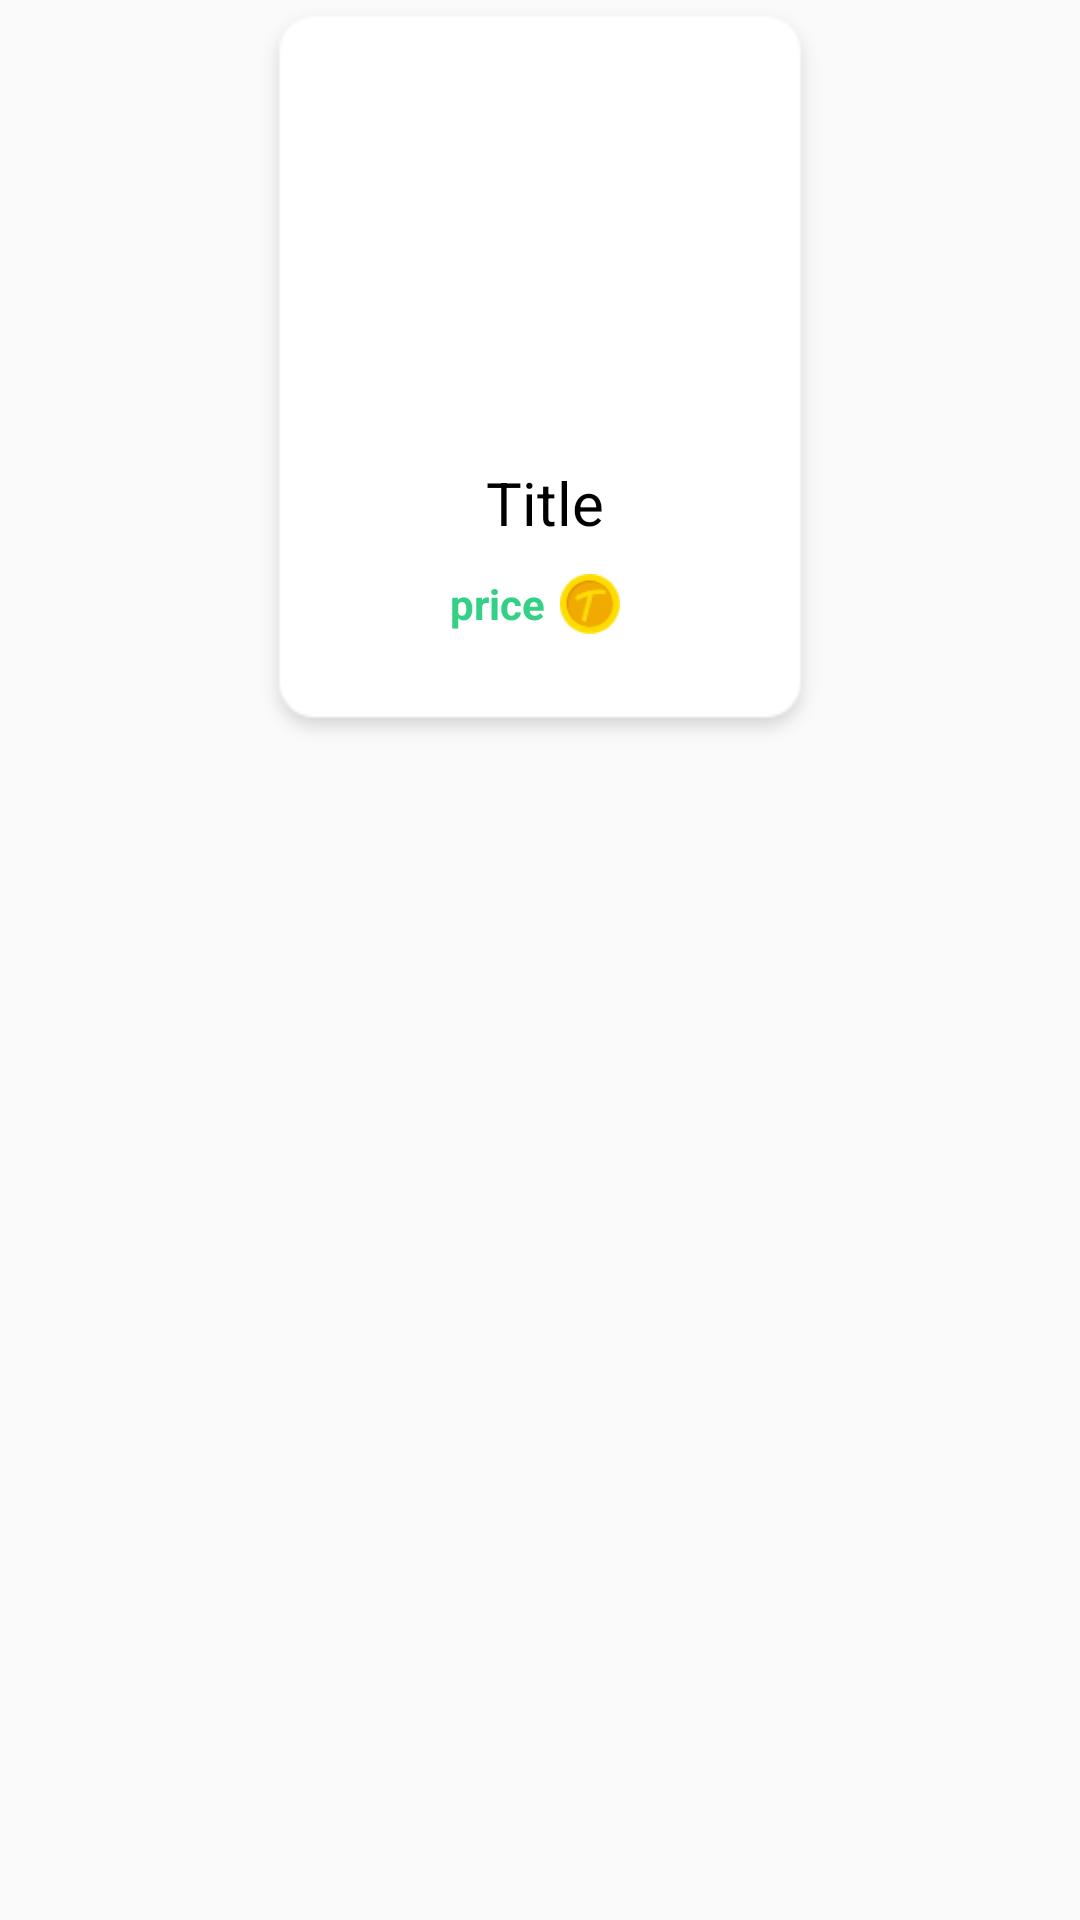

Icons on this 1080 x 1920 Android screen, each with its box as (x1, y1, x2, y2):
coin: (560, 574, 620, 634)
